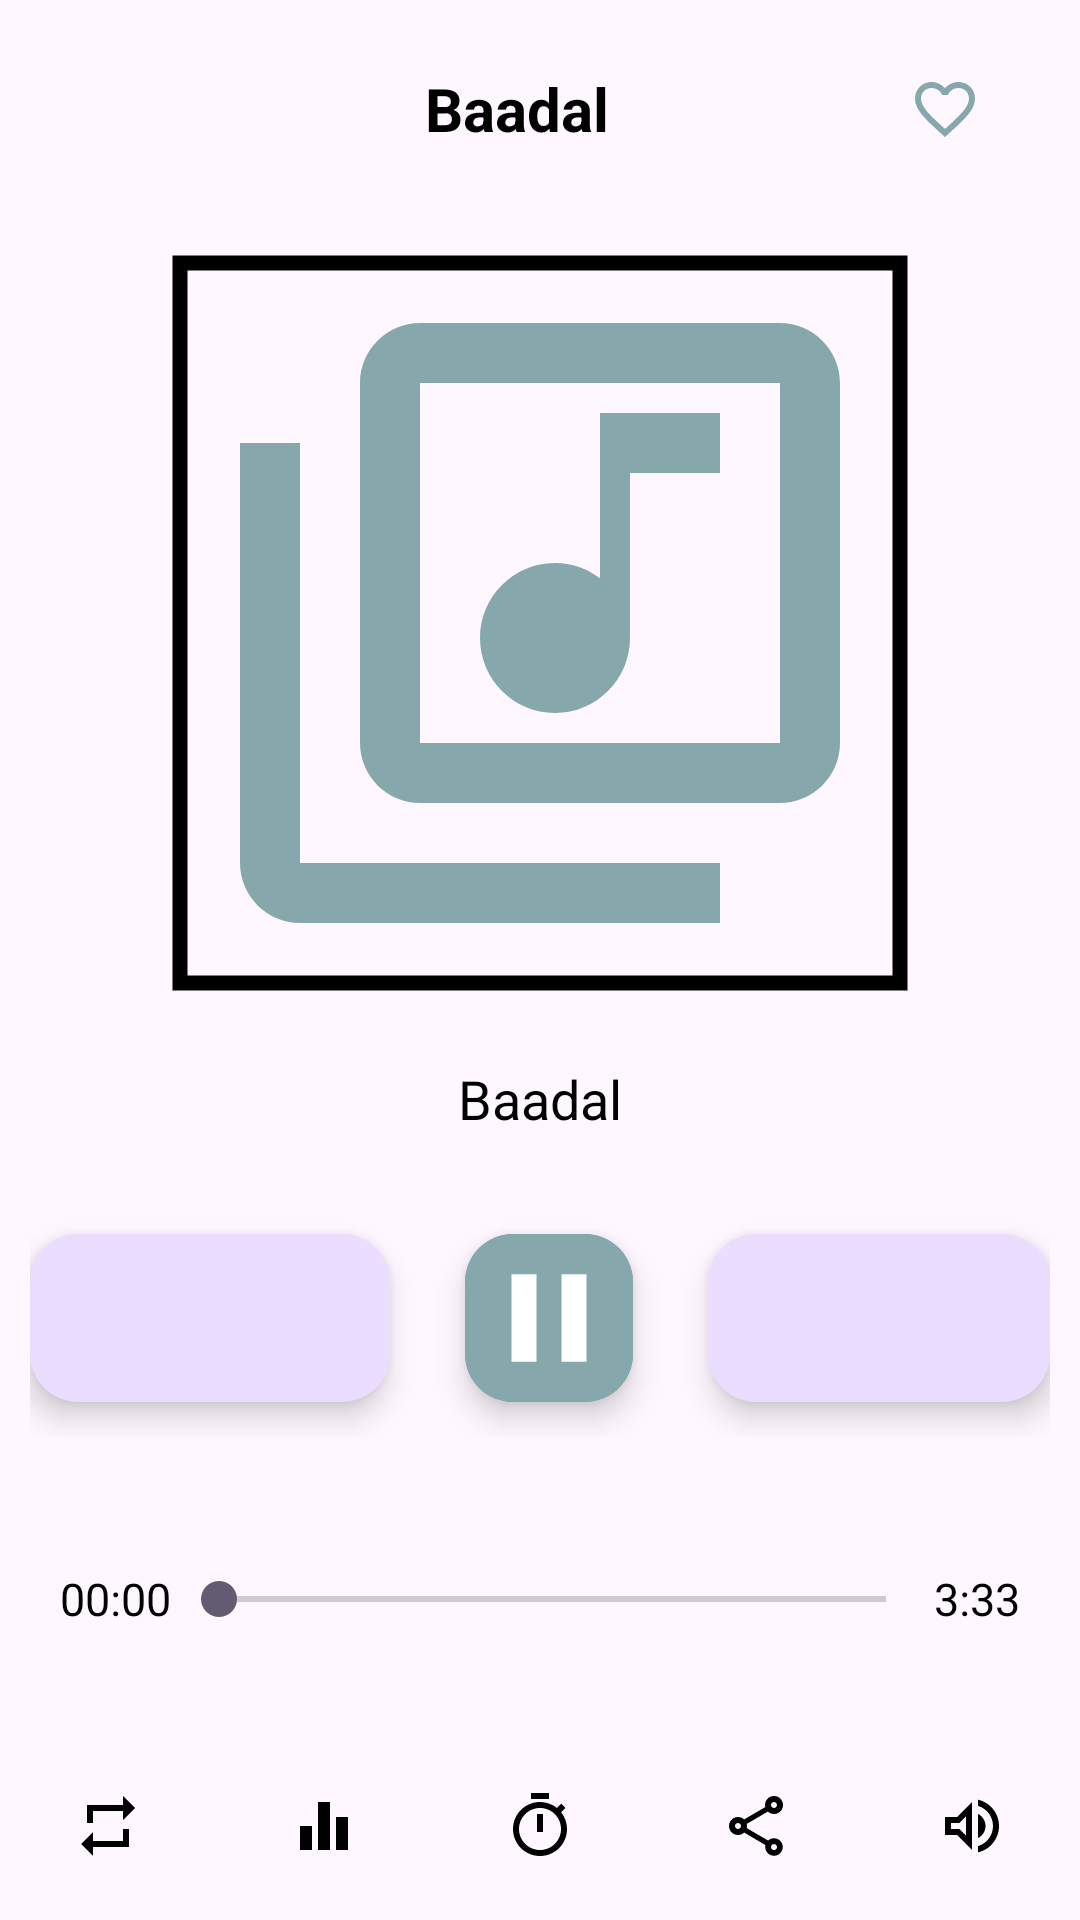

Screen size 1080 × 1920. Icon name, then its center in pixels as point (x, y):
equalizer: point (324, 1826)
fav: point (945, 109)
pause: point (549, 1318)
repeat: point (108, 1826)
share: point (756, 1826)
timer: point (540, 1824)
volume: point (972, 1826)
